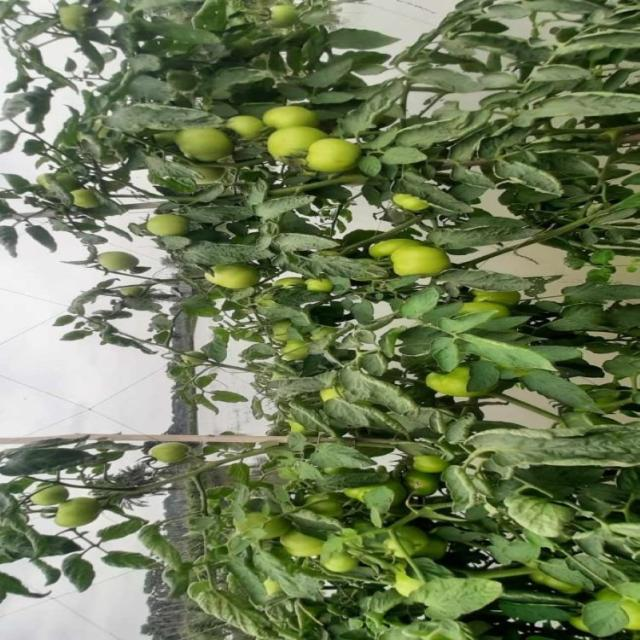tomato: (446, 292, 514, 333), (308, 135, 365, 174), (387, 253, 455, 285), (264, 125, 326, 159), (419, 367, 478, 402), (141, 205, 188, 245), (264, 323, 309, 364), (93, 249, 141, 286), (146, 435, 192, 473), (52, 3, 99, 40), (175, 121, 223, 157), (392, 179, 435, 219), (207, 261, 255, 296), (262, 104, 324, 131), (279, 527, 315, 572), (402, 444, 449, 478), (56, 499, 94, 535), (293, 268, 333, 298), (392, 471, 431, 498), (375, 237, 422, 259), (37, 478, 69, 510), (230, 116, 267, 142), (64, 186, 94, 214)
